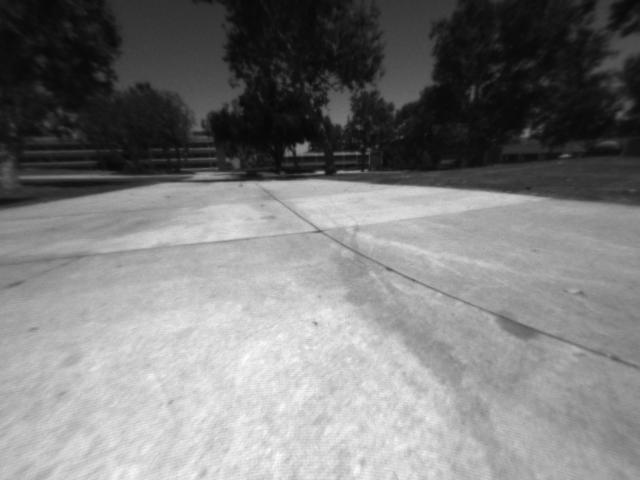dogtoy: (520, 179, 538, 193)
